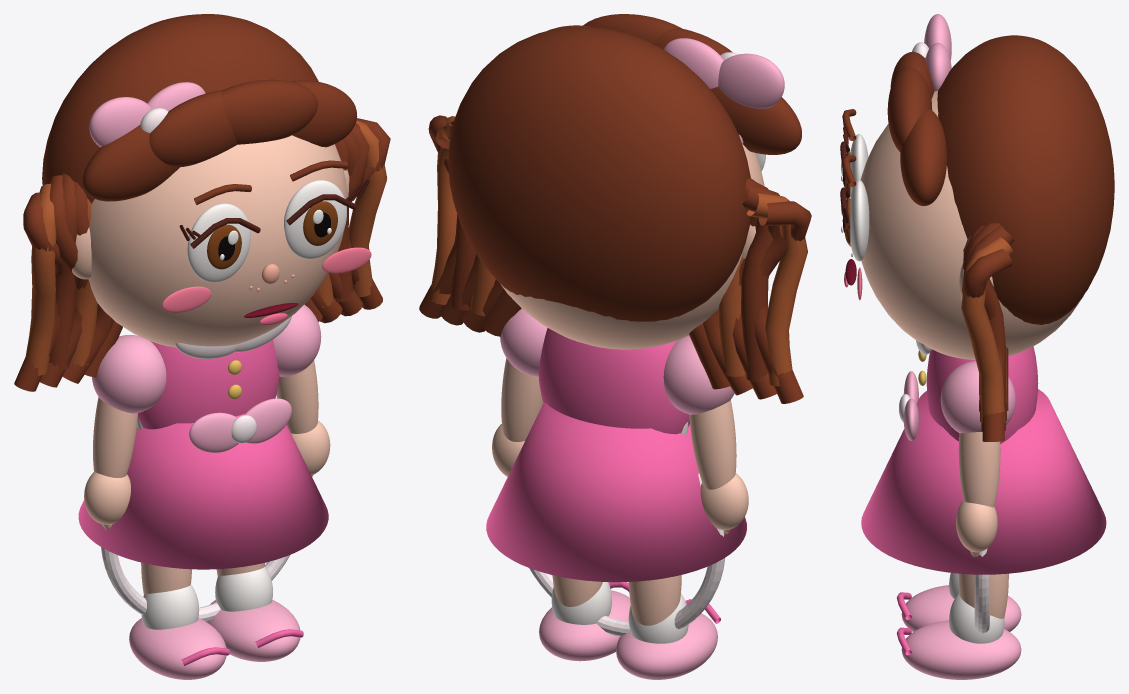
File: riki-speaking.glb
The picture shows the model from 3 angles, left to right: view 1: azimuth 30°, elevation 25°; view 2: azimuth 150°, elevation 25°; view 3: azimuth 270°, elevation 25°; orthographic projection. The views are drawn at different scales.
Visible parts, largest first — view 1: Head, Skirt, HairCap, Bodice, SculptedBang.002, SculptedBang.001, SculptedBang, PuffSleeve, MaryJane, MaryJane.001, HairLock.005, Arm (+34 smaller); view 2: HairCap, Skirt, Bodice, Head, HairLock.005, MaryJane, SculptedBang, HairLock.006, Arm, MaryJane.001, PuffSleeve, HairLock.003 (+24 smaller); view 3: HairCap, Skirt, Head, MaryJane.001, Bodice, SculptedBang.003, HairLock.012, Arm.001, PuffSleeve.001, SculptedBang.002, HairLock.013, MaryJane (+12 smaller).
Boxes of the visible parts, x1,y1,x2,y2 form: Head: [88, 135, 346, 347]; Skirt: [78, 413, 328, 569]; HairCap: [42, 14, 318, 203]; Bodice: [138, 339, 279, 429]; SculptedBang.002: [221, 79, 317, 144]; SculptedBang.001: [149, 90, 237, 167]; SculptedBang: [82, 125, 179, 201]; PuffSleeve: [92, 335, 166, 413]; MaryJane: [129, 618, 226, 679]; MaryJane.001: [207, 600, 300, 661]; HairLock.005: [25, 183, 56, 375]; Arm: [93, 397, 137, 477]; HairCap: [448, 27, 750, 321]; Skirt: [486, 402, 746, 582]; Bodice: [538, 328, 689, 434]; Head: [501, 144, 764, 349]; HairLock.005: [746, 193, 807, 386]; MaryJane: [616, 613, 717, 679]; SculptedBang: [710, 87, 801, 154]; HairLock.006: [754, 201, 811, 403]; Arm: [689, 400, 736, 489]; MaryJane.001: [539, 590, 630, 661]; PuffSleeve: [663, 335, 734, 414]; HairLock.003: [741, 178, 773, 381]; HairCap: [937, 35, 1114, 324]; Skirt: [861, 389, 1106, 574]; Head: [860, 90, 1083, 359]; MaryJane.001: [901, 620, 1021, 679]; Bodice: [926, 346, 1038, 443]; SculptedBang.003: [900, 109, 946, 205]; HairLock.012: [961, 237, 1013, 423]; Arm.001: [958, 432, 1000, 507]; PuffSleeve.001: [940, 361, 1015, 433]; SculptedBang.002: [887, 67, 932, 151]; HairLock.013: [962, 249, 1011, 441]; MaryJane: [901, 585, 1021, 631].
Size of the model in its own units: 2.97 by 4.8 by 1.97.
